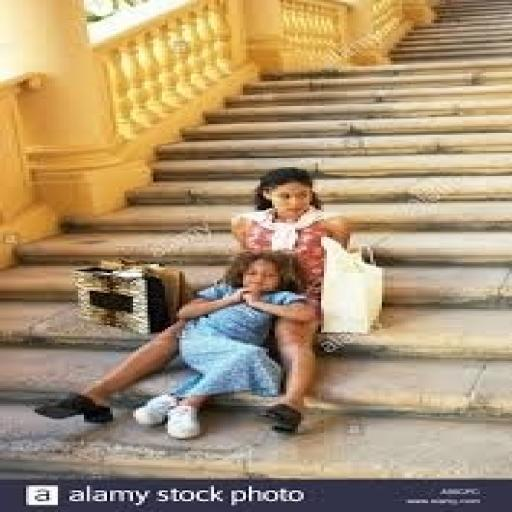sitting: (32, 165, 356, 440), (130, 248, 315, 438)
